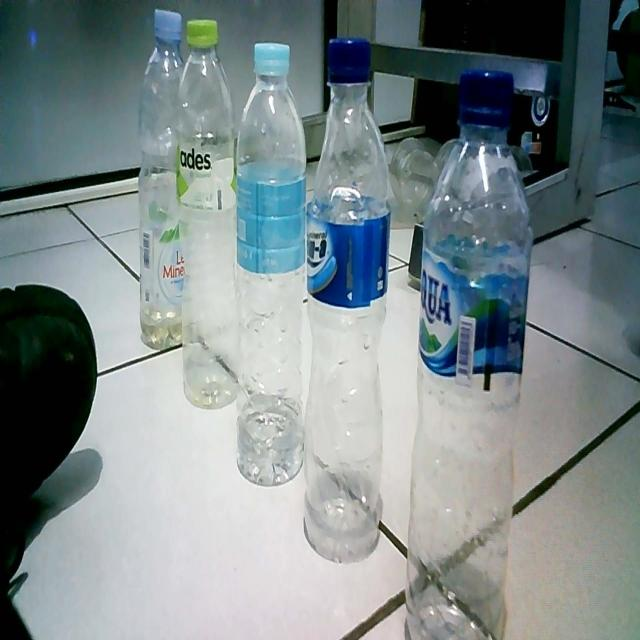botol: (406, 63, 535, 640), (303, 36, 393, 566), (236, 26, 309, 490), (179, 5, 242, 409), (138, 9, 198, 350)
